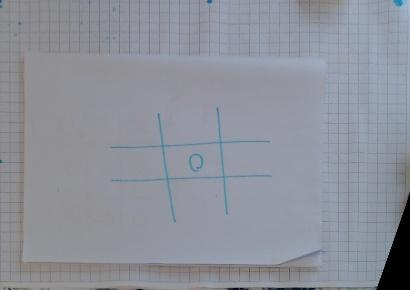O: (187, 154, 205, 172)
grid: (113, 112, 273, 223)
